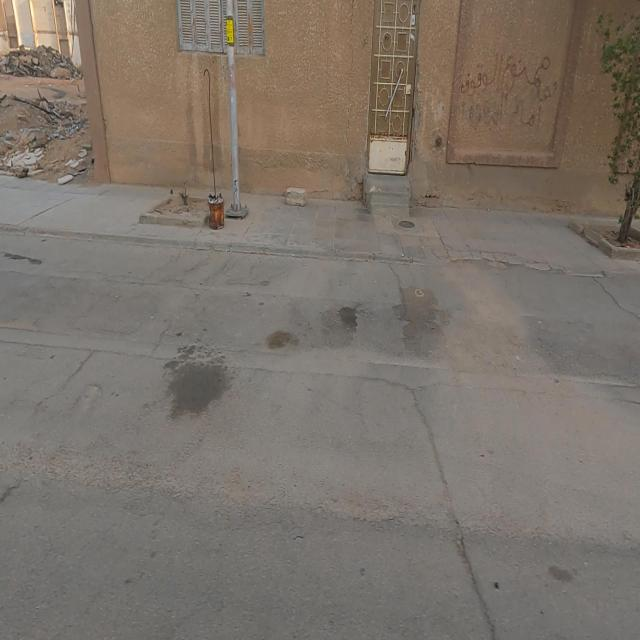Graffiti: (461, 54, 558, 130)
